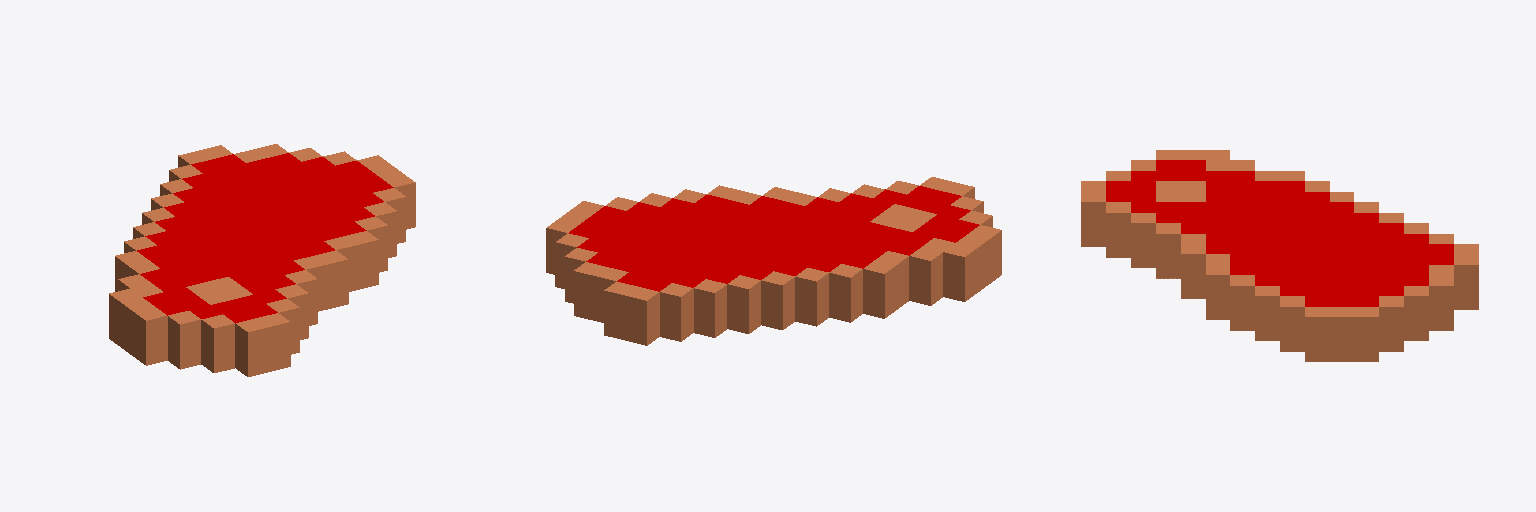
3 renders of one model, left to right at view 1: azimuth 30°, elevation 25°; view 2: azimuth 150°, elevation 25°; view 3: azimuth 270°, elevation 25°, orthographic.
Visible parts, largest first — view 1: object 1; view 2: object 1; view 3: object 1.
Part boxes in pixels (x1,y1,x2,y2): object 1: (109, 144, 415, 376); object 1: (546, 177, 1001, 345); object 1: (1081, 150, 1478, 361).
Size of the model in its own units: 1.6 by 0.2 by 1.6.
Materials: 1 (1 with a texture image).